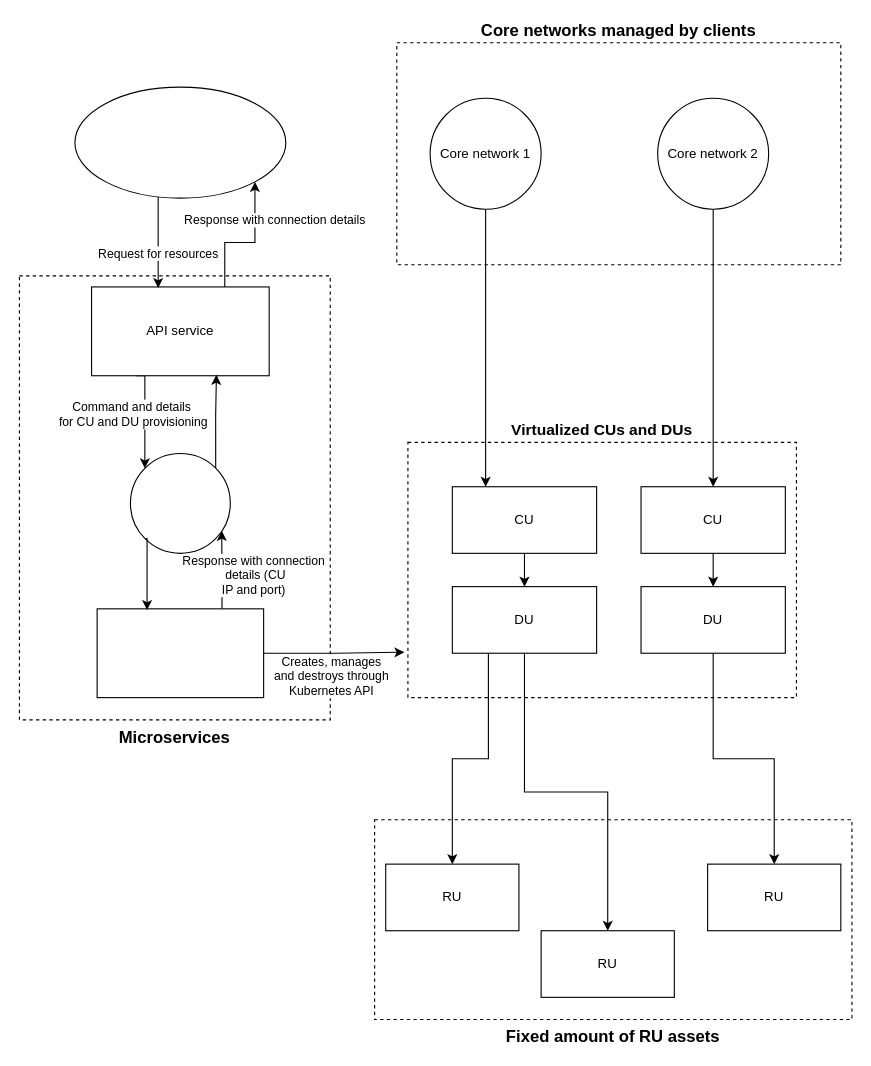
The diagram is 871 pixels wide and 1066 high, and some of its shapes have lost their labels. The centre of each missing label's shape, as x and y in pixels:
Core network operators (clients): (x=180, y=142)
RabbitMQ broker: (x=179, y=502)
Worker service: (x=180, y=653)
